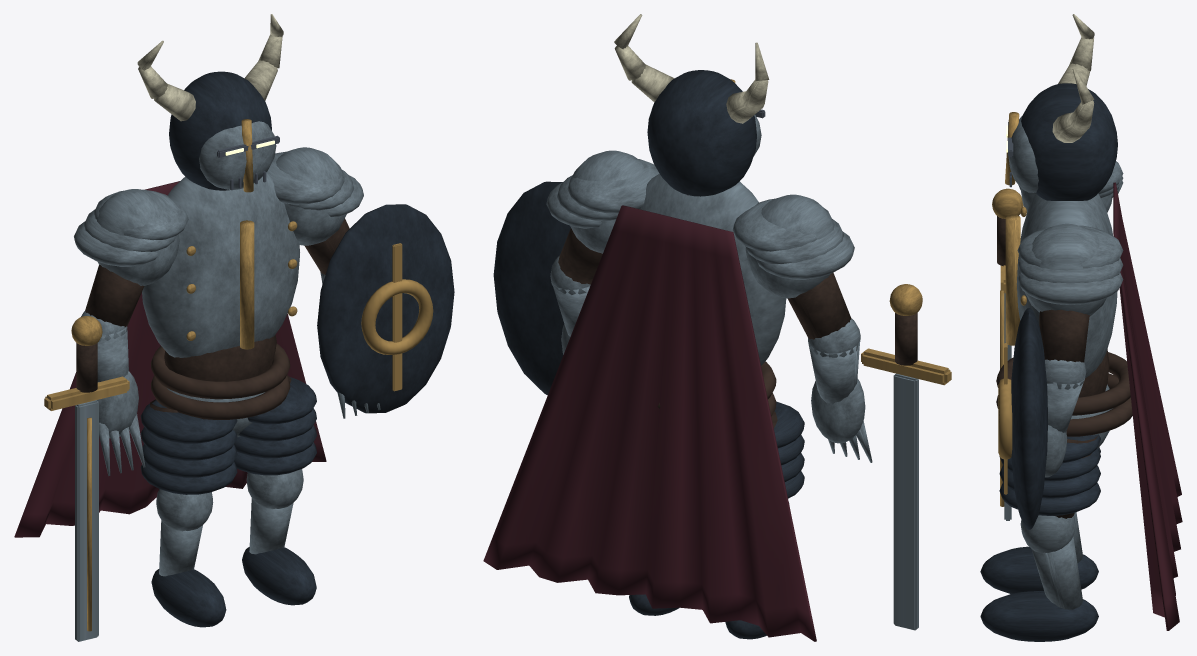
The model's file is enemy_knight.glb.
3 renders of one model, left to right at view 1: azimuth 30°, elevation 25°; view 2: azimuth 150°, elevation 25°; view 3: azimuth 270°, elevation 25°, orthographic. The views are drawn at different scales.
Parts seen in each view (by area): view 1: Weathered_blue_steel, Forged_black_iron.003, Weathered_blue_steel.002, Worn_crimson_cloth, Forged_black_iron, Oiled_leather, Forged_black_iron.001, Antique_brass.002, Weathered_blue_steel.004, Forged_black_iron.002, Weathered_blue_steel.006, Weathered_blue_steel.001 (+8 smaller); view 2: Worn_crimson_cloth, Weathered_blue_steel.002, Forged_black_iron.003, Forged_black_iron.002, Weathered_blue_steel.004, Weathered_blue_steel.006, Weathered_blue_steel, Aged_bone, Forged_black_iron, Oiled_leather.002, Antique_brass.002, Oiled_leather.004 (+1 smaller); view 3: Worn_crimson_cloth, Weathered_blue_steel.004, Forged_black_iron.001, Forged_black_iron.002, Forged_black_iron.003, Weathered_blue_steel, Oiled_leather, Weathered_blue_steel.003, Antique_brass.002, Forged_black_iron, Aged_bone, Oiled_leather.004 (+6 smaller).
Part boxes in pixels (left/top/right/bottom): Weathered_blue_steel: left=142, top=173, right=299, bottom=437; Forged_black_iron.003: left=317, top=204, right=454, bottom=413; Weathered_blue_steel.002: left=74, top=189, right=188, bottom=475; Worn_crimson_cloth: left=14, top=181, right=326, bottom=537; Forged_black_iron: left=140, top=400, right=237, bottom=627; Oiled_leather: left=150, top=335, right=290, bottom=419; Forged_black_iron.001: left=234, top=377, right=316, bottom=605; Antique_brass.002: left=44, top=243, right=433, bottom=631; Weathered_blue_steel.004: left=266, top=147, right=380, bottom=418; Forged_black_iron.002: left=169, top=71, right=271, bottom=190; Weathered_blue_steel.006: left=75, top=400, right=98, bottom=641; Weathered_blue_steel.001: left=156, top=489, right=213, bottom=576; Worn_crimson_cloth: left=483, top=205, right=816, bottom=641; Weathered_blue_steel.002: left=733, top=194, right=872, bottom=462; Forged_black_iron.003: left=493, top=181, right=570, bottom=395; Forged_black_iron.002: left=647, top=70, right=756, bottom=196; Weathered_blue_steel.004: left=546, top=150, right=659, bottom=354; Weathered_blue_steel.006: left=893, top=373, right=918, bottom=630; Weathered_blue_steel: left=640, top=174, right=786, bottom=365; Aged_bone: left=614, top=14, right=769, bottom=123; Forged_black_iron: left=725, top=401, right=804, bottom=639; Oiled_leather.002: left=788, top=272, right=851, bottom=339; Antique_brass.002: left=861, top=284, right=951, bottom=385; Oiled_leather.004: left=558, top=228, right=602, bottom=284; Worn_crimson_cloth: left=1113, top=182, right=1182, bottom=630; Weathered_blue_steel.004: left=1017, top=223, right=1123, bottom=509; Forged_black_iron.001: left=980, top=434, right=1100, bottom=641; Forged_black_iron.002: left=1021, top=83, right=1117, bottom=200; Forged_black_iron.003: left=1011, top=308, right=1047, bottom=529; Weathered_blue_steel: left=1016, top=193, right=1117, bottom=448; Oiled_leather: left=996, top=349, right=1132, bottom=436; Weathered_blue_steel.003: left=1020, top=515, right=1082, bottom=609; Antique_brass.002: left=992, top=188, right=1023, bottom=506; Forged_black_iron: left=980, top=447, right=1100, bottom=593; Aged_bone: left=1052, top=14, right=1094, bottom=142; Oiled_leather.004: left=1039, top=309, right=1089, bottom=362.
Bounding box in the file's own units: 2.89 × 3.75 × 1.19.
9 materials, 7 textured.
